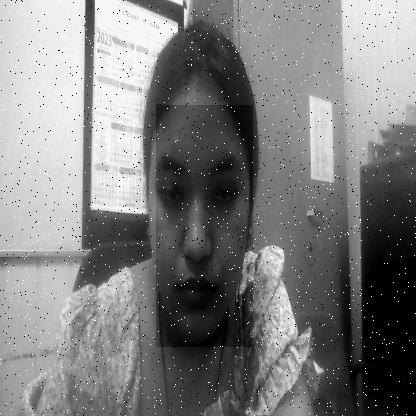Normal: (156, 105, 253, 347)
